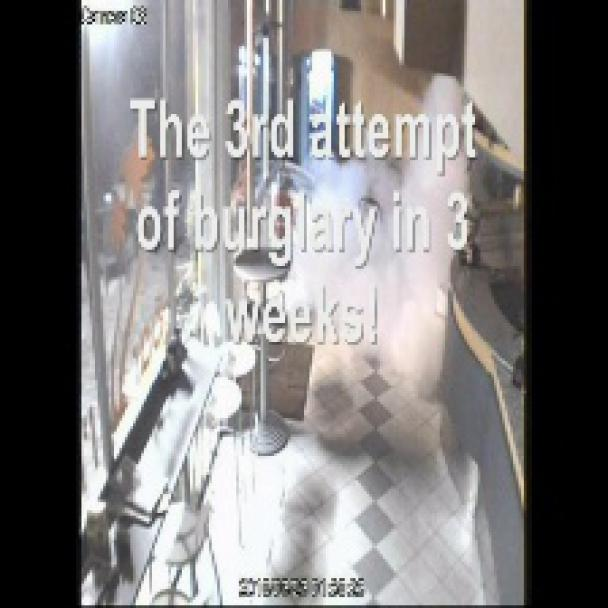smoke: (258, 62, 513, 408)
